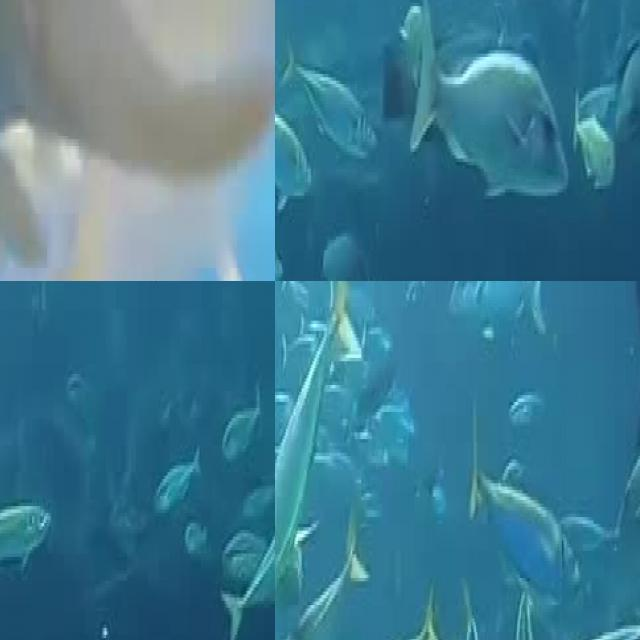fish: (0, 0, 275, 281), (414, 0, 569, 219), (340, 577, 443, 640)
